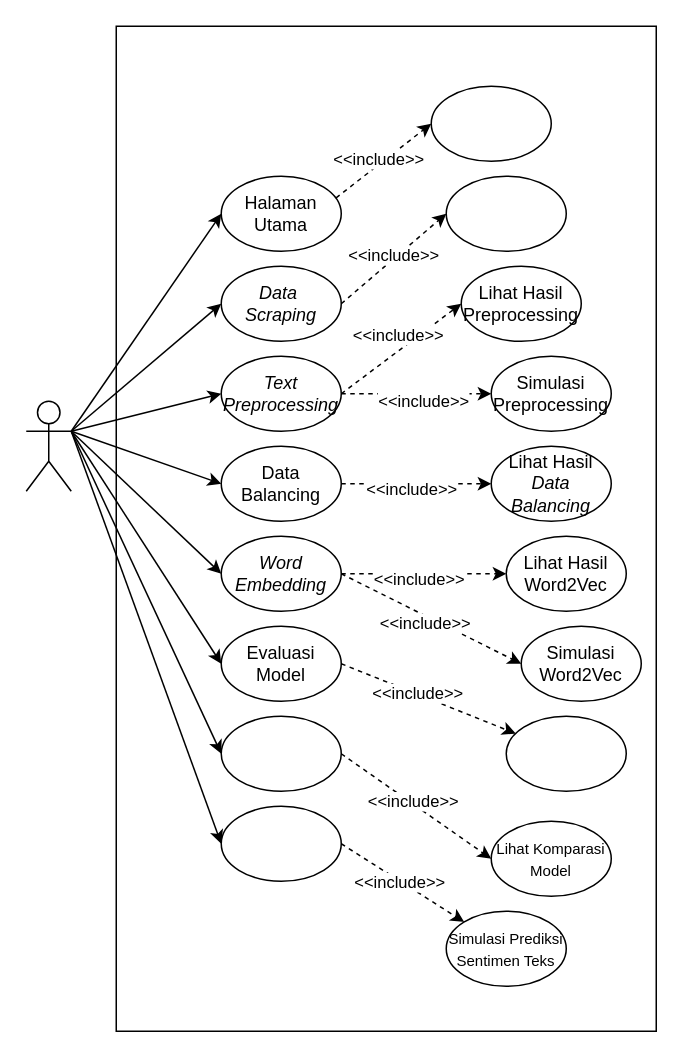
The diagram is 683 pixels wide and 1058 high, and some of its shapes have lost their labels. The centre of each missing label's shape, as x and y in pixels:
"Informasi Aplikasi" goes at [490,123].
"Komparasi Model" goes at [280,753].
"Lihat Evaluasi Model" goes at [565,753].
"Lihat Informasi Dataset" goes at [505,213].
"Prediksi Sentimen" goes at [280,843].
"User" goes at [48,445].
